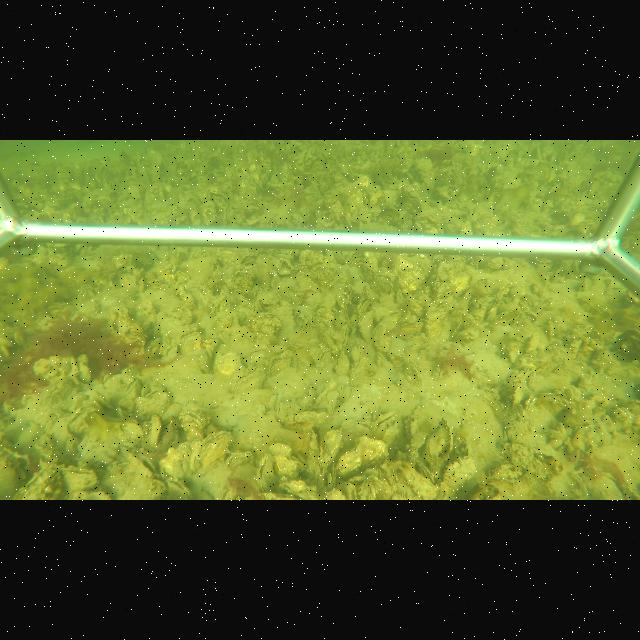Oyster-Closed: (336, 434, 391, 480), (197, 429, 233, 477), (424, 420, 453, 475), (13, 462, 59, 496), (230, 365, 266, 398), (62, 464, 97, 495), (253, 450, 276, 494), (178, 331, 204, 354), (358, 310, 376, 343), (145, 414, 161, 449), (333, 324, 350, 353), (335, 351, 351, 374)
Oyster-Open: (123, 448, 158, 478), (166, 479, 193, 498)
